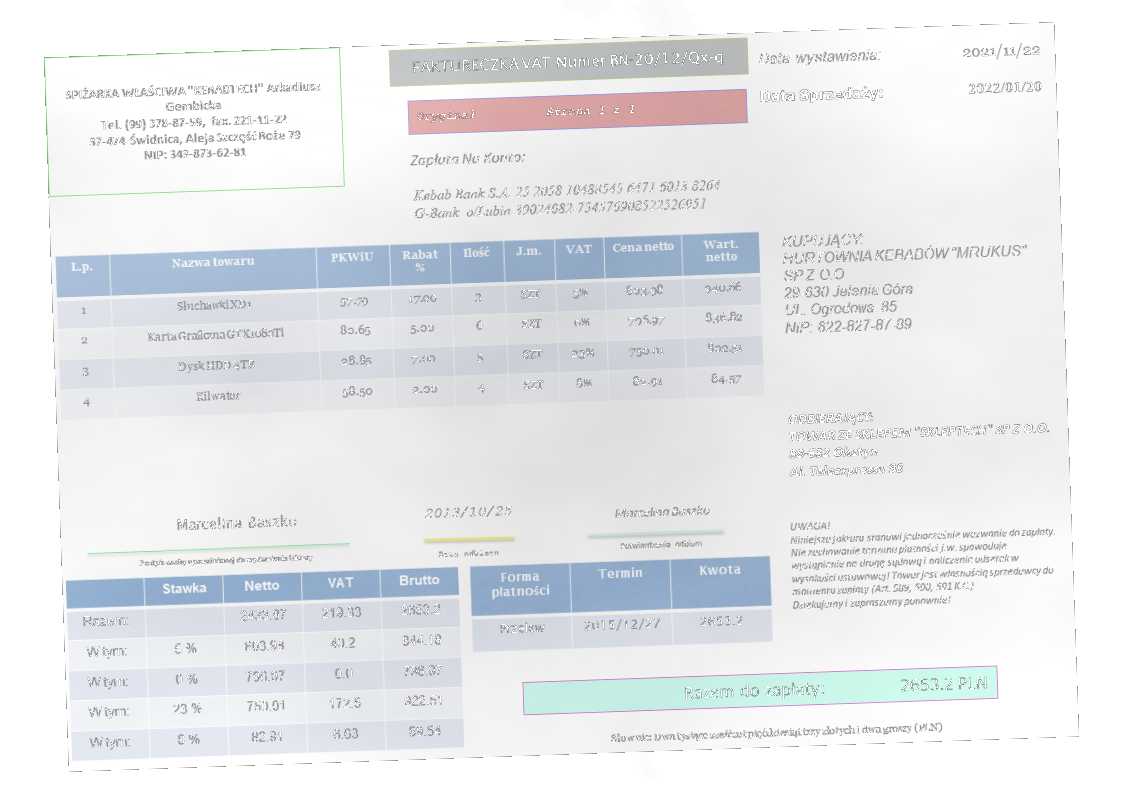Table: (54, 228, 767, 421), (64, 566, 466, 763), (468, 554, 774, 653)
TextBox: (778, 223, 1032, 337), (787, 510, 1058, 613), (61, 75, 324, 166), (784, 401, 1054, 481), (411, 174, 723, 222), (408, 46, 726, 79), (608, 718, 945, 747), (682, 671, 987, 703), (413, 100, 640, 127), (757, 82, 888, 108), (136, 552, 315, 570), (755, 45, 883, 70), (407, 146, 530, 170), (174, 513, 297, 533), (958, 40, 1044, 63), (422, 502, 516, 521), (613, 503, 712, 521), (964, 78, 1046, 97), (618, 537, 704, 552), (437, 545, 501, 560)
